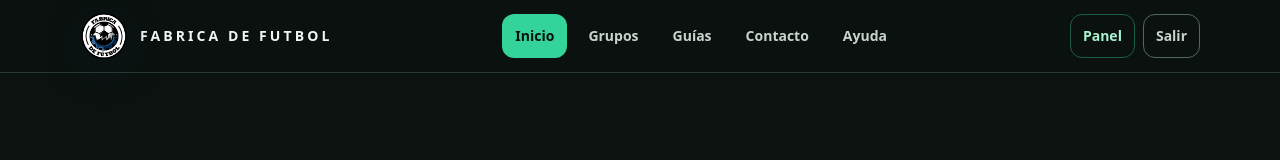
SiteHeader › maneja una excepción de red sin mostrar un cierre de sesión exitoso
The width and height of the screenshot is (1280, 160).
What coordinates should you click on to do the following:
click the button "Salir"
I would click on:
 (1171, 36)
Its box is left=1143, top=14, right=1200, bottom=58.
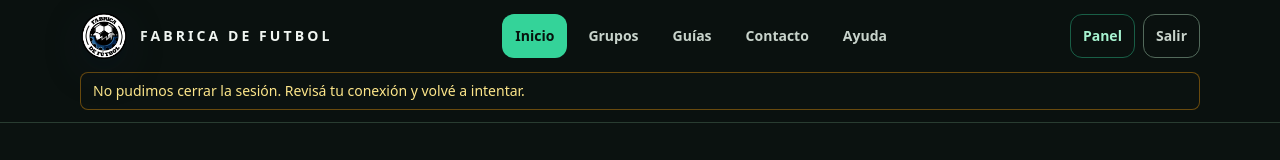
Now the message shows "Revisá tu conexión", box left=93, top=81, right=525, bottom=100
